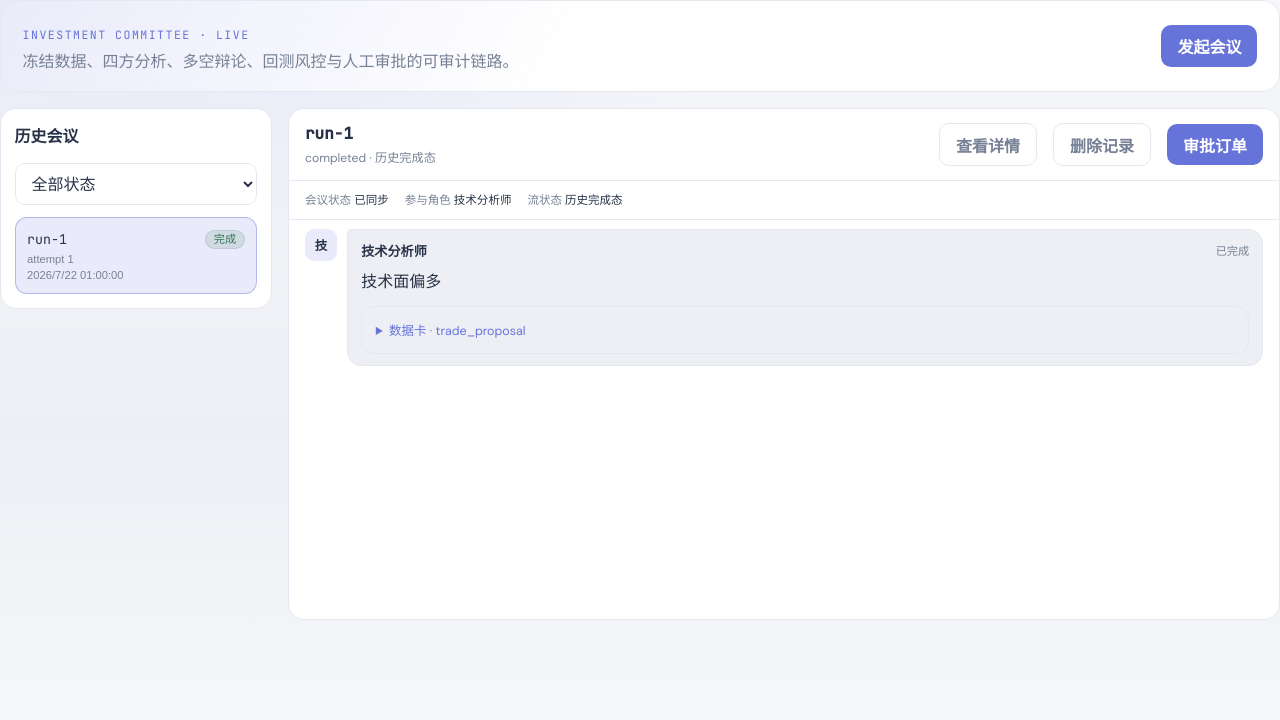
CommitteePage › 主区域展示群聊消息且结构化报告进入详情抽屉
expect the text "技术面偏多" is shown: met, box x1=361 y1=270 x2=441 y2=292
expect the text "技术分析师" next to "参与角色" is shown: met, box x1=454 y1=193 x2=511 y2=208
Click the button "查看详情".
click(988, 145)  # box x1=939 y1=123 x2=1037 y2=166
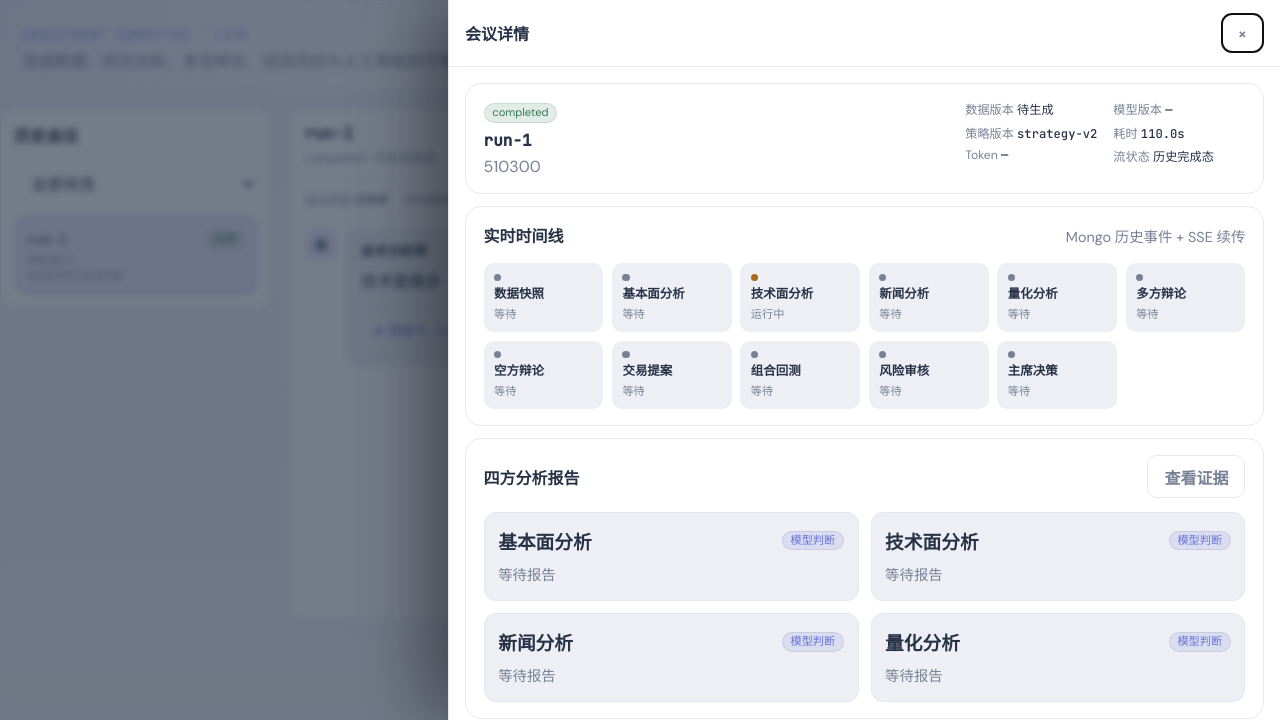
expect the text "510300" is shown: met, box x1=484 y1=156 x2=541 y2=177
